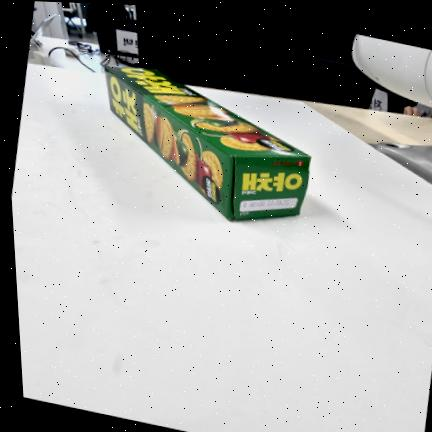cracker_vege: (105, 66, 311, 219)
